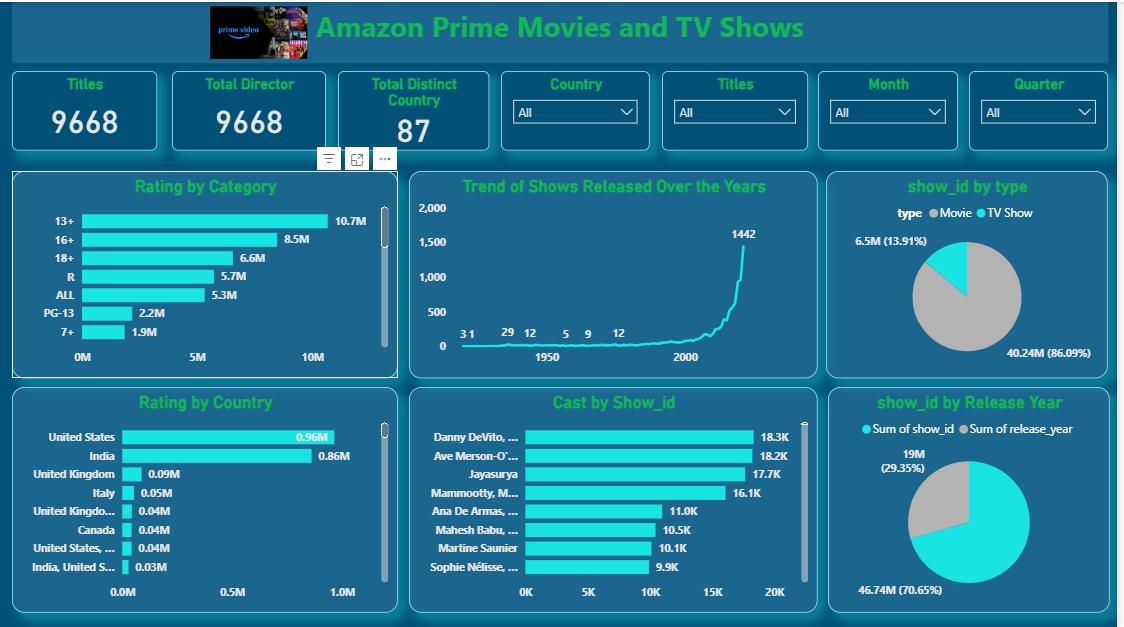

Layout of this report page (visuals, bound fields, positions):
{"tool":"powerbi","page":{"name":"Page 1","canvas":[1280,720],"ordinal":0},"visuals":[{"type":"textbox","box":[17.1,0,1252.6,69.7],"z":0},{"type":"slicer","title":"Quarter","fields":{"Values":["amazon_prime_titles.date_added.Variation.Date Hierarchy.Quarter"]},"box":[1110.9,78.9,158.9,91.4],"z":1000},{"type":"slicer","title":"Month","fields":{"Values":["amazon_prime_titles.date_added.Variation.Date Hierarchy.Month"]},"box":[938.3,78.9,160,91.4],"z":2000},{"type":"slicer","title":"Titles","fields":{"Values":["amazon_prime_titles.title"]},"box":[760,78.9,166.9,91.4],"z":3000},{"type":"slicer","title":"Country","fields":{"Values":["amazon_prime_titles.country"]},"box":[576,78.9,170.3,91.4],"z":4000},{"type":"card","title":"Titles","fields":{"Values":["CountNonNull(amazon_prime_titles.title)"]},"box":[17.1,78.9,165.7,91.4],"z":5000},{"type":"card","title":"Total Director","fields":{"Values":["CountNonNull(amazon_prime_titles.director)"]},"box":[200,78.9,176,91.4],"z":6000},{"type":"card","title":"Total Distinct Country","fields":{"Values":["Count(amazon_prime_titles.country)"]},"box":[389.7,78.9,172.6,91.4],"z":7000},{"type":"barChart","title":"Rating by Category","fields":{"Category":["amazon_prime_titles.rating"],"Y":["Sum(amazon_prime_titles.show_id)"]},"box":[17.1,193.1,441.1,236.6],"z":8000},{"type":"barChart","title":"Rating by Country","fields":{"Category":["amazon_prime_titles.country"],"Y":["Sum(amazon_prime_titles.show_id)"]},"box":[17.1,440,441.1,258.3],"z":9000},{"type":"barChart","title":"Cast by Show_id","fields":{"Category":["amazon_prime_titles.cast"],"Y":["Sum(amazon_prime_titles.show_id)"]},"box":[470.9,440,467.4,258.3],"z":10000},{"type":"pieChart","title":" show_id by type","fields":{"Y":["Sum(amazon_prime_titles.show_id)"],"Category":["amazon_prime_titles.type"]},"box":[947.4,193.1,322.3,236.6],"z":11000},{"type":"pieChart","title":" show_id by Release Year","fields":{"Y":["Sum(amazon_prime_titles.show_id)","Sum(amazon_prime_titles.release_year)"]},"box":[949.7,440,322.3,258.3],"z":12000},{"type":"lineChart","title":"Trend of Shows Released Over the Years","fields":{"Category":["amazon_prime_titles.release_year"],"Y":["Count(amazon_prime_titles.show_id)"]},"box":[470.9,193.1,467.4,236.6],"z":13000},{"type":"image","box":[237.7,0,123.4,69.7],"z":13001}]}

Visuals, with their boxes in screenshot pixels (x1, y1, x2, y2), scaled from the page's 1280x720 canvas onto the 1124x627 screenshot:
textbox: rect(15, 0, 1115, 61)
"Quarter" slicer: rect(976, 69, 1115, 148)
"Month" slicer: rect(824, 69, 964, 148)
"Titles" slicer: rect(667, 69, 814, 148)
"Country" slicer: rect(506, 69, 655, 148)
"Titles" card: rect(15, 69, 161, 148)
"Total Director" card: rect(176, 69, 330, 148)
"Total Distinct Country" card: rect(342, 69, 494, 148)
"Rating by Category" barChart: rect(15, 168, 402, 374)
"Rating by Country" barChart: rect(15, 383, 402, 608)
"Cast by Show_id" barChart: rect(414, 383, 824, 608)
" show_id by type" pieChart: rect(832, 168, 1115, 374)
" show_id by Release Year" pieChart: rect(834, 383, 1117, 608)
"Trend of Shows Released Over the Years" lineChart: rect(414, 168, 824, 374)
image: rect(209, 0, 317, 61)
